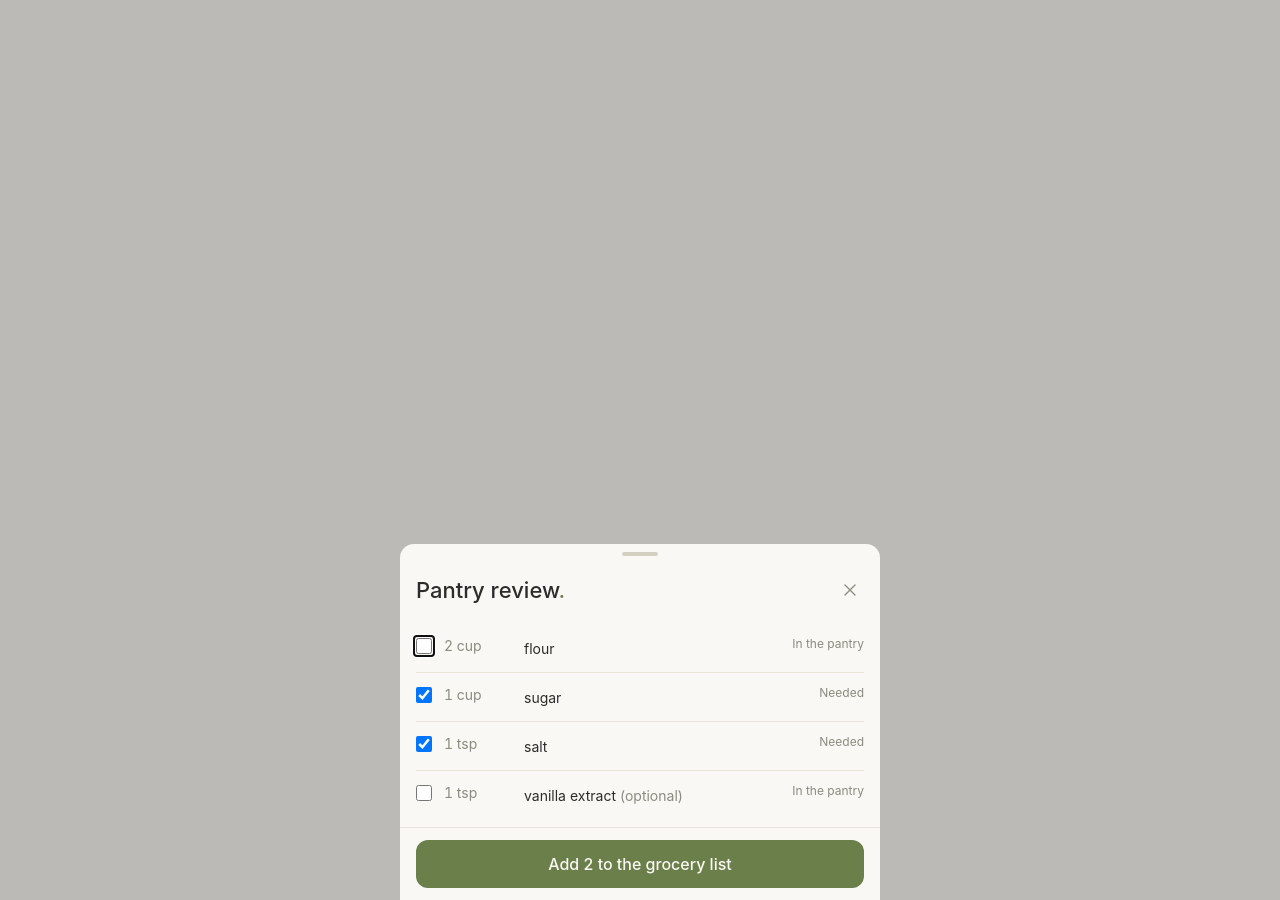
Test: PantryReviewSheet › footer button › toggling a row updates the footer count
Step 1. Click the checkbox labelled "1 cup sugar Needed" → (424, 695), box [416, 687, 432, 703]
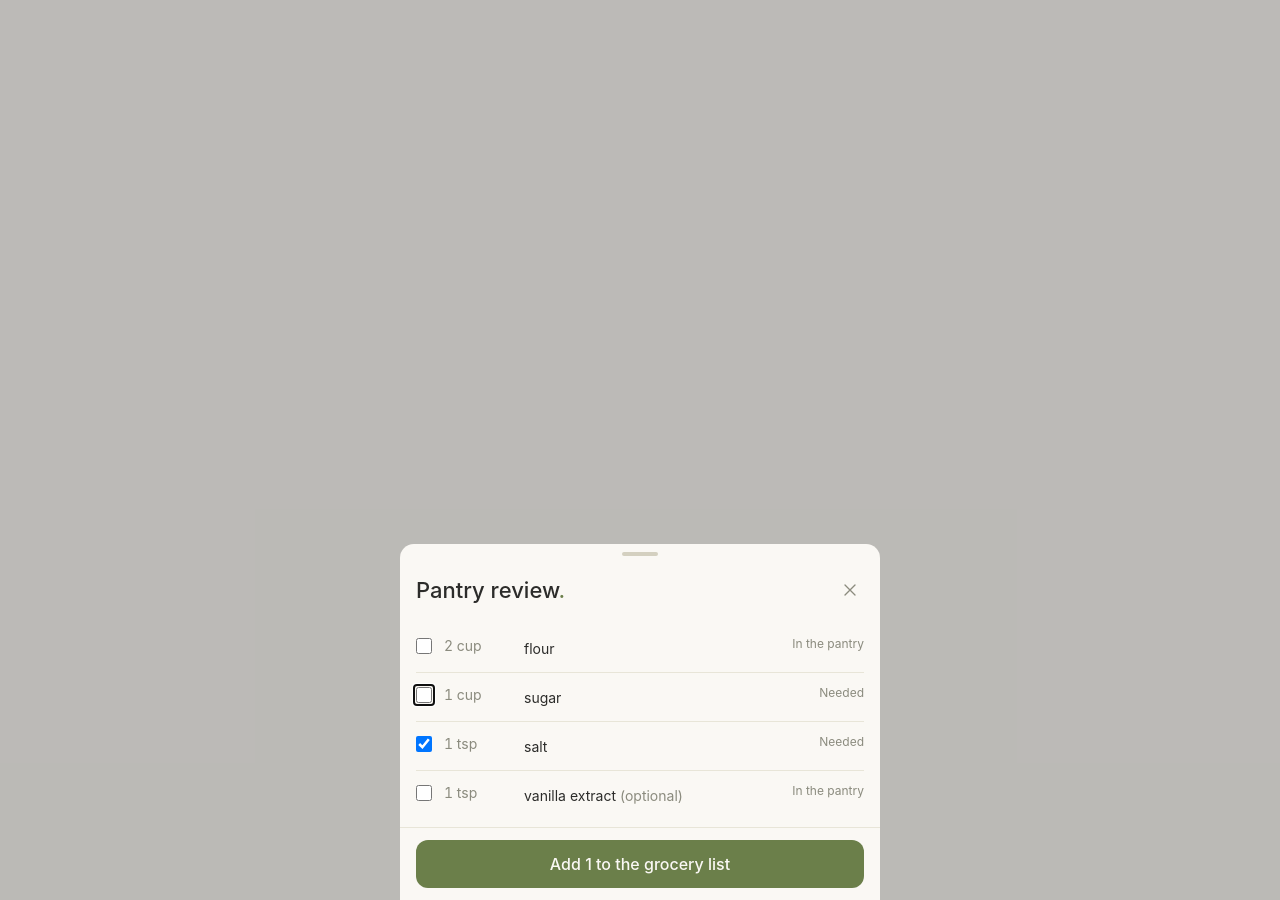
Now the button "Add 1 to the grocery list" is shown, box [416, 840, 864, 888]
